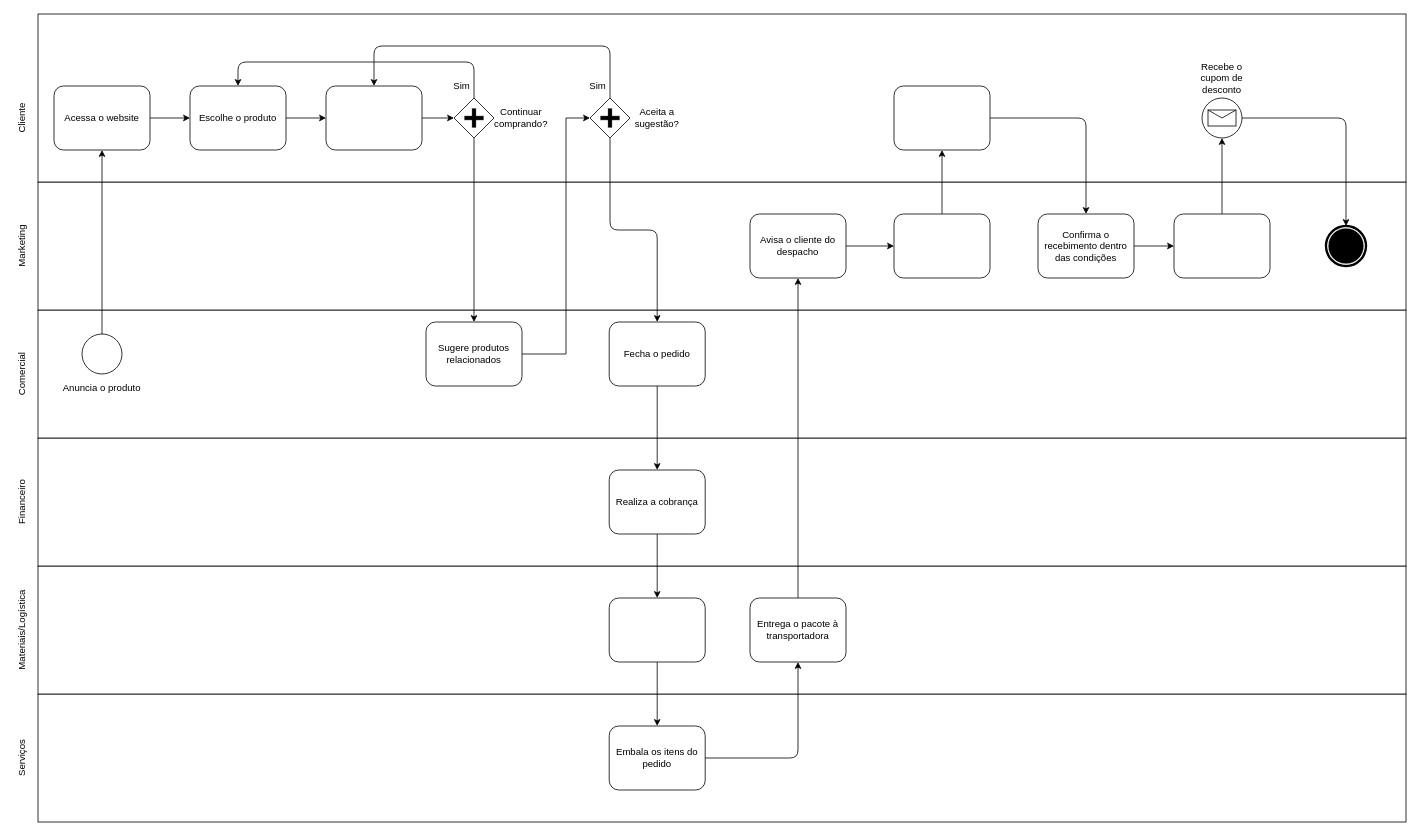
The diagram is 1420 pixels wide and 836 high, and some of its shapes have lost their labels. Each missing label, with the centre of its shape:
Adiciona o produto no carrinho: the point at 373,117
Monitora o transporte do pedido e mantém o cliente atualizado: the point at 941,245
Oferece um cupom de desconto de 15% para a próxima compra no website: the point at 1221,245
Recebe o pedido: the point at 941,117
Separa os itens do pedido: the point at 656,629
